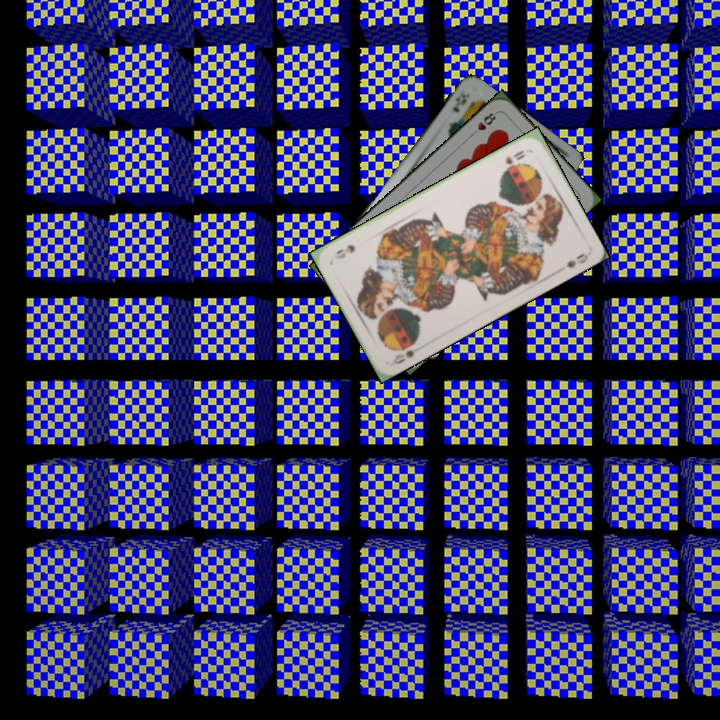EK: (448, 87, 473, 115)
H8: (467, 108, 500, 139)
SO: (389, 346, 417, 367), (501, 146, 528, 167)
